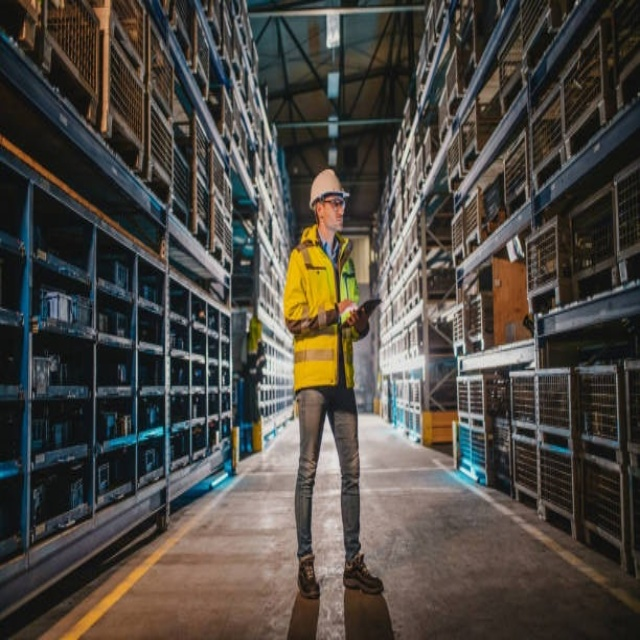Gafas: (319, 199, 347, 212)
Sin_guantes: (337, 298, 359, 322)
Sin_mascara: (329, 213, 345, 229)
